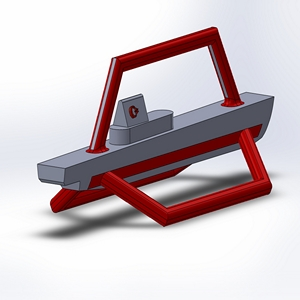submarine: (17, 10, 292, 259)
